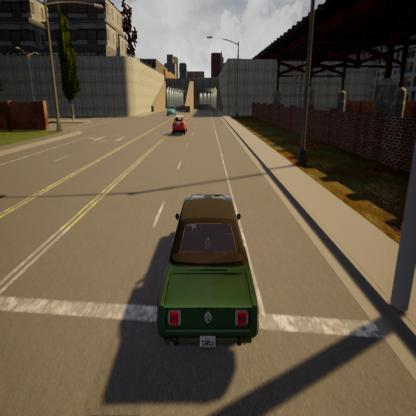Cars: (156, 191, 269, 363), (167, 111, 190, 138)
